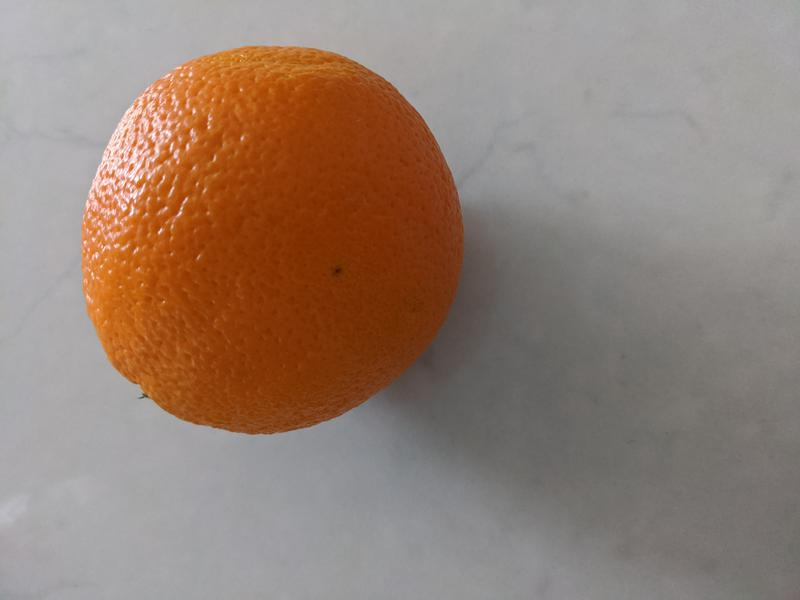orange: (79, 44, 467, 435)
